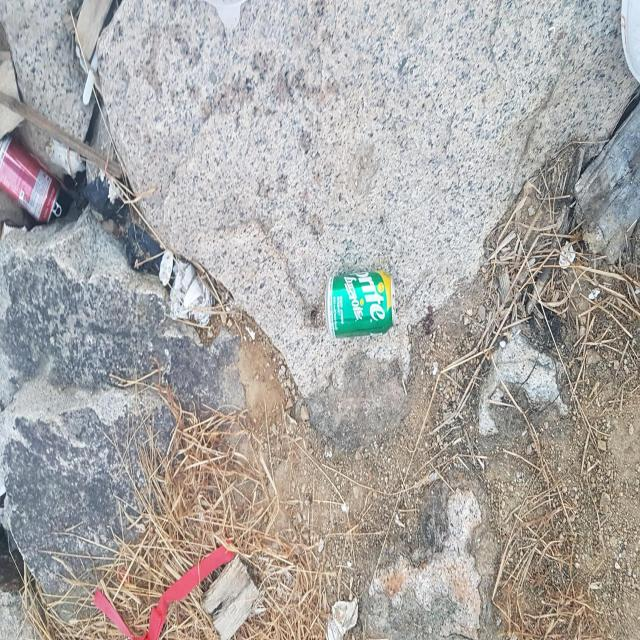can: (0, 134, 58, 221), (325, 269, 396, 339)
